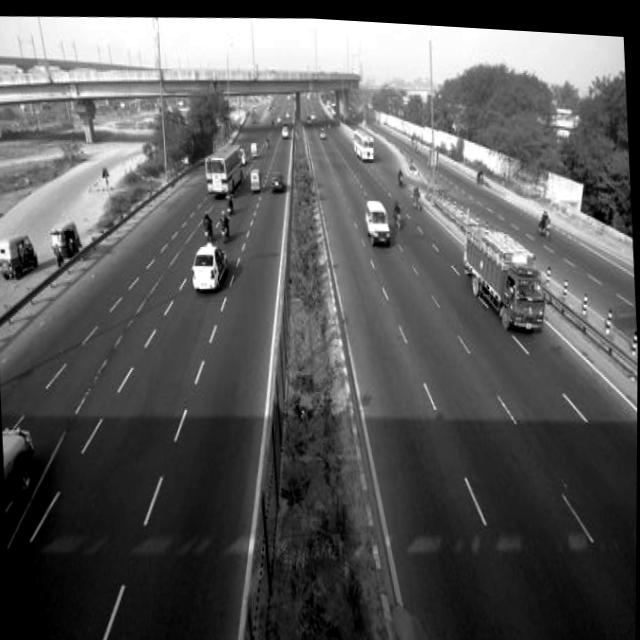cleat: (49, 48, 638, 640)
